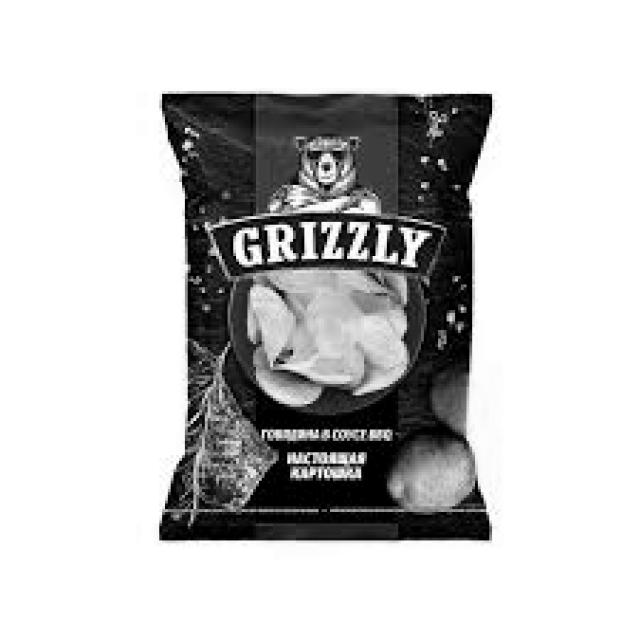grizzly: (208, 128, 444, 284)
